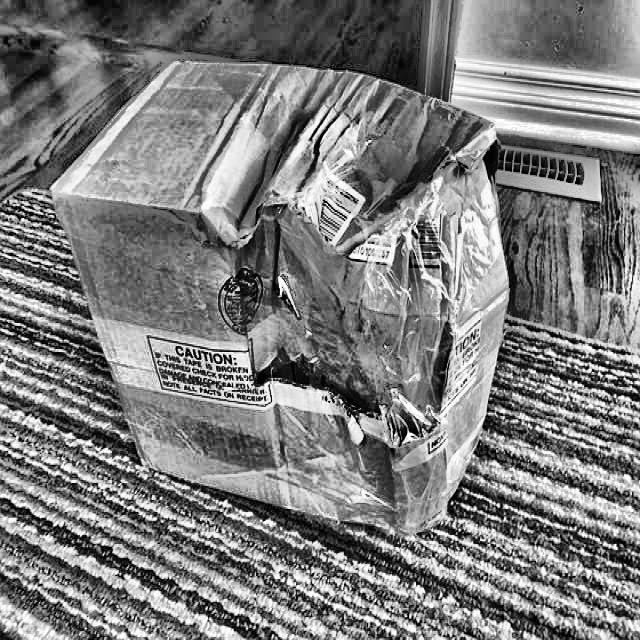box: (40, 49, 519, 540)
hole: (251, 352, 367, 412)
